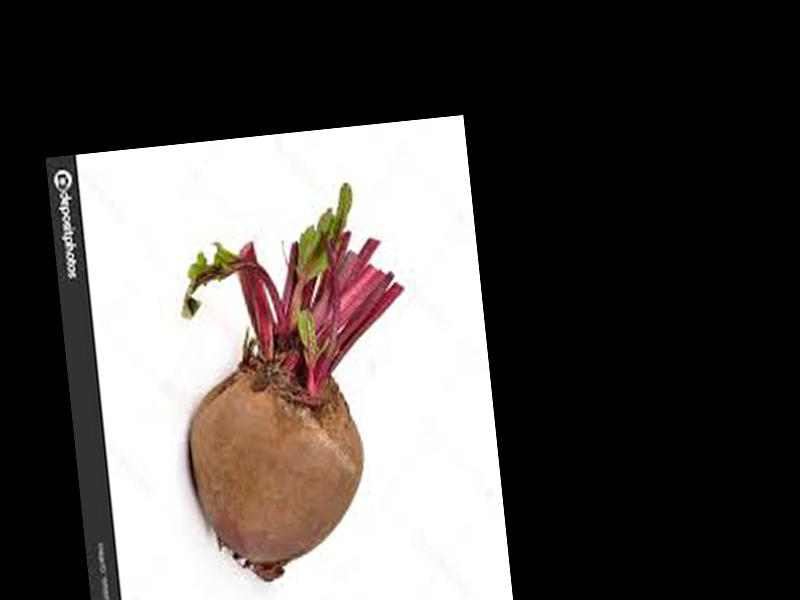Beet: (161, 178, 432, 588)
